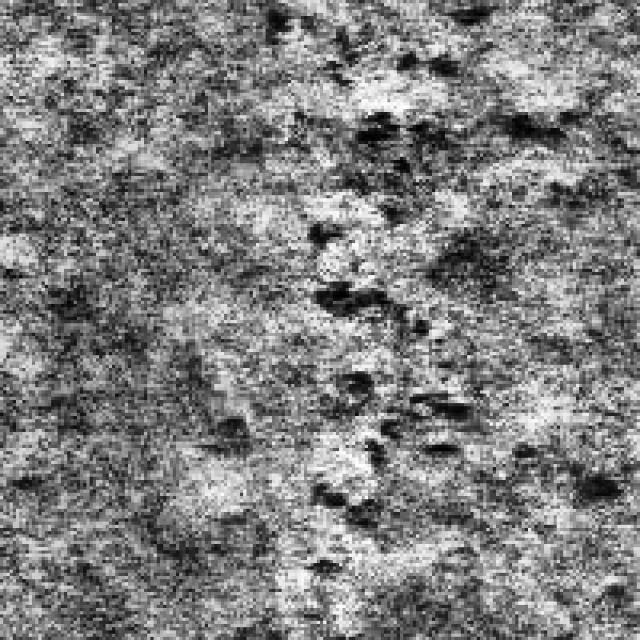Crazing: (304, 99, 474, 522)
